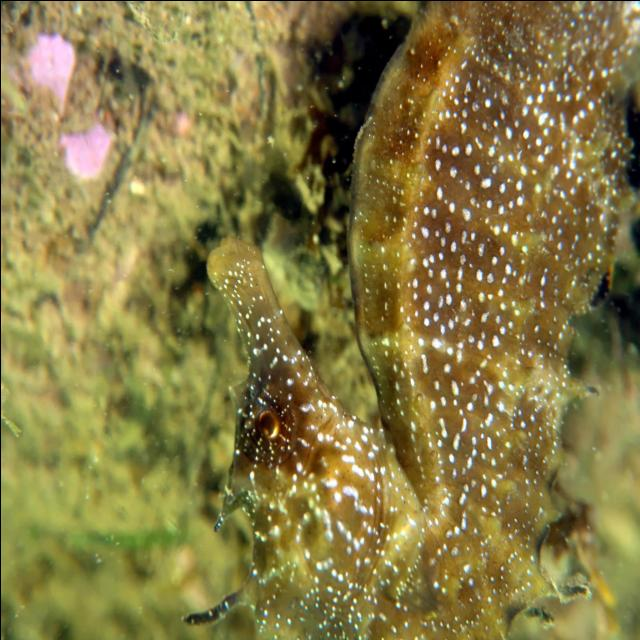Guttu: (199, 226, 386, 640)
